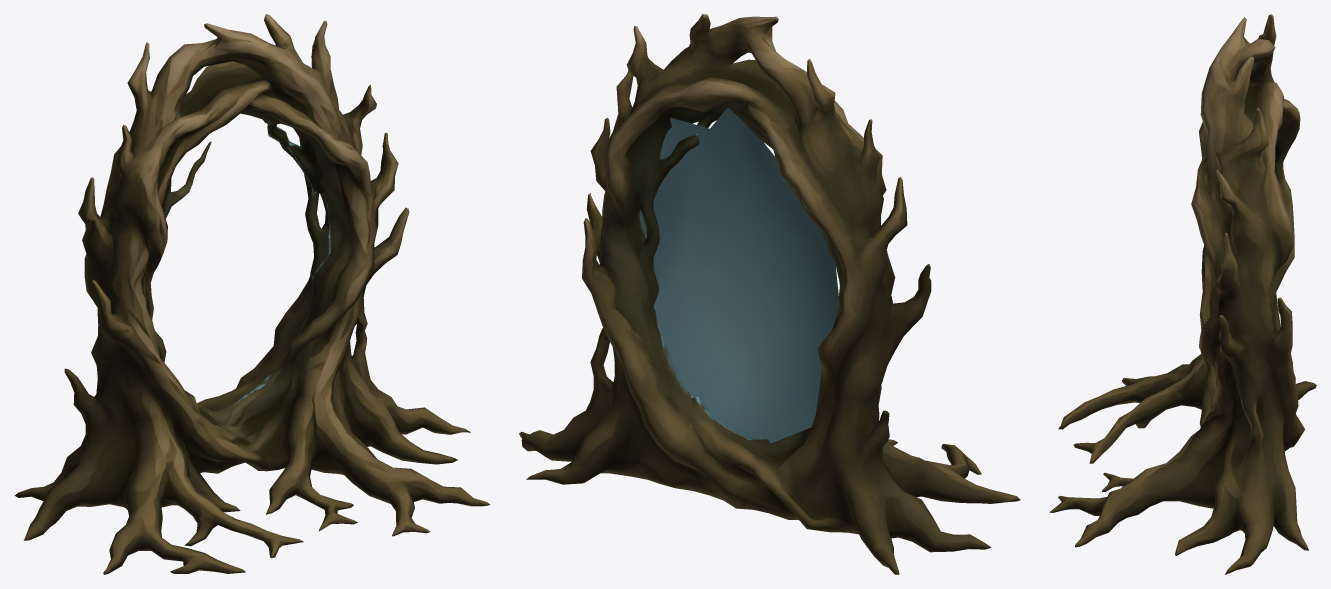
Rendered from 019eae14-8cde-796b-a2eb-f4c51bae0538.glb.
The picture shows the model from 3 angles, left to right: view 1: azimuth 30°, elevation 25°; view 2: azimuth 150°, elevation 25°; view 3: azimuth 270°, elevation 25°; orthographic projection. The views are drawn at different scales.
Visible parts, largest first — view 1: tripo_node_3b6e31dc-7039-4e44-a4de-e7a562a692de; view 2: tripo_node_3b6e31dc-7039-4e44-a4de-e7a562a692de; view 3: tripo_node_3b6e31dc-7039-4e44-a4de-e7a562a692de.
Part boxes in pixels (x1,y1,x2,y2): tripo_node_3b6e31dc-7039-4e44-a4de-e7a562a692de: (14,14,490,574); tripo_node_3b6e31dc-7039-4e44-a4de-e7a562a692de: (519,14,1020,574); tripo_node_3b6e31dc-7039-4e44-a4de-e7a562a692de: (1049,14,1316,574).
Size of the model in its own units: 0.998 by 0.9941 by 0.5449.
Materials: 1 (1 with a texture image).
